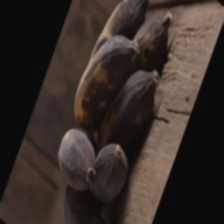banana: (28, 27, 190, 203)
